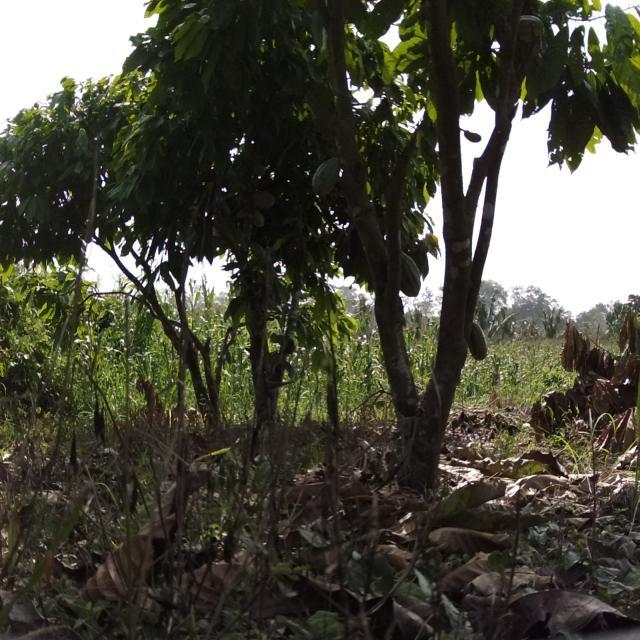Immature: (458, 121, 486, 145)
Mature_Unripe: (392, 240, 429, 306), (307, 147, 349, 205), (465, 313, 499, 371), (253, 193, 277, 229), (250, 242, 270, 267)
